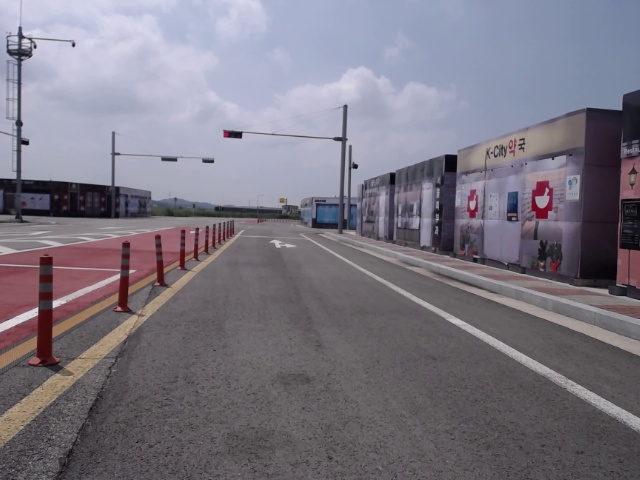red_3: (223, 131, 242, 138)
